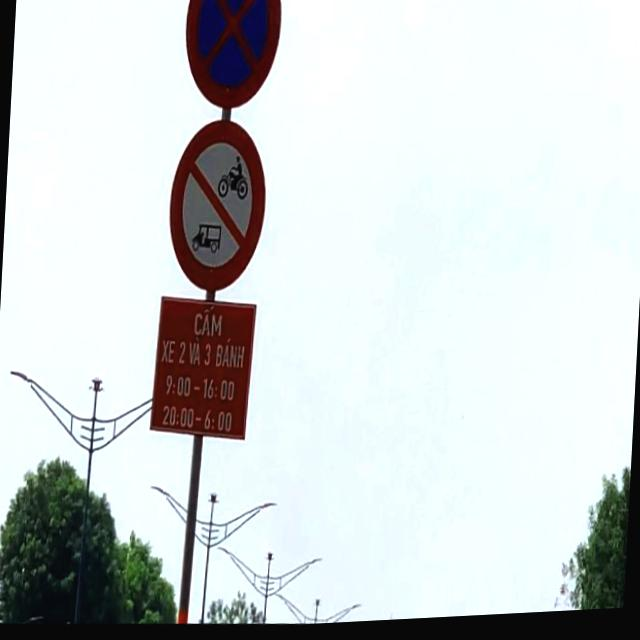Cam dung xe va do xe: (180, 0, 284, 117)
